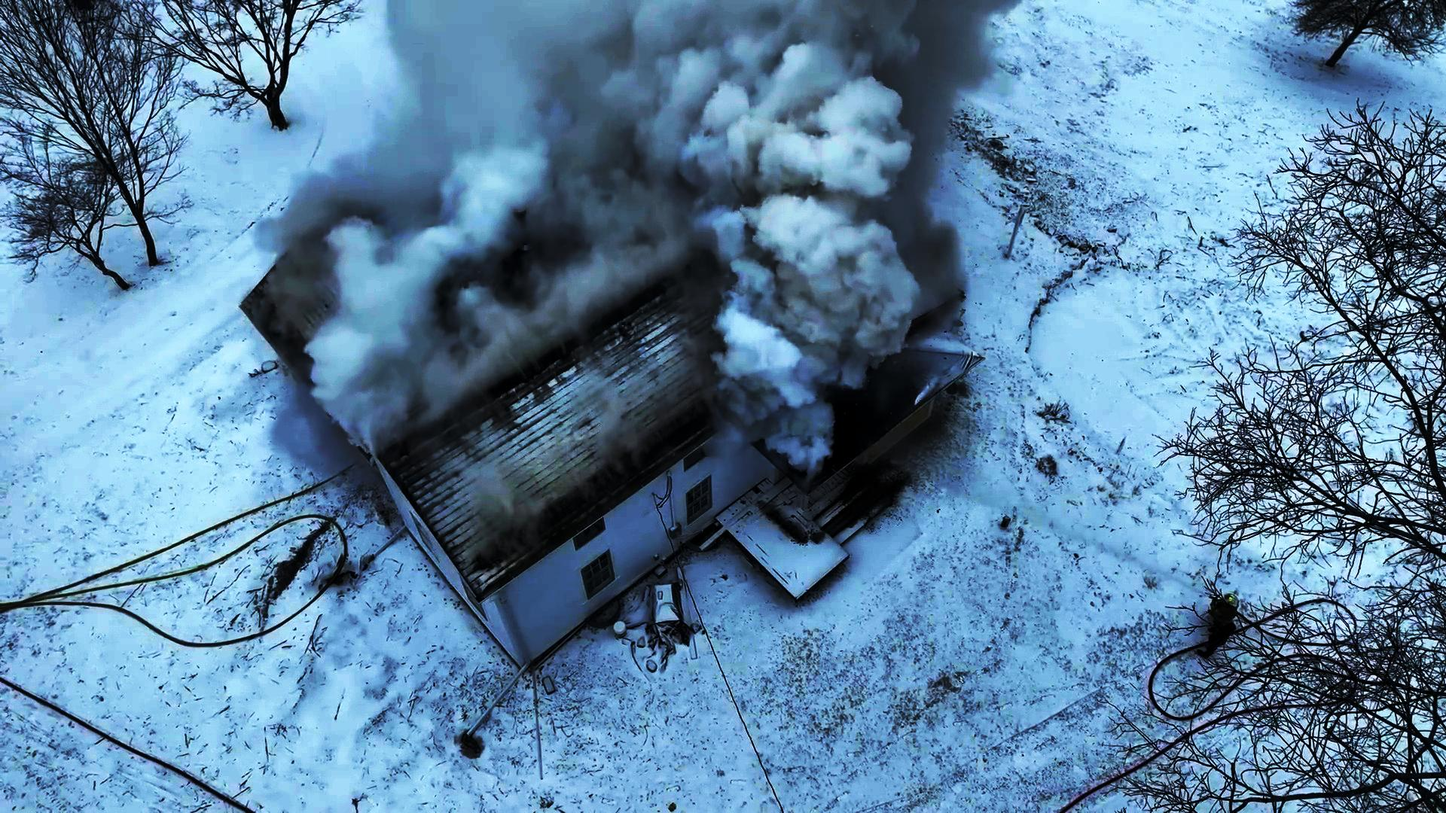smoke: (720, 55, 900, 435)
